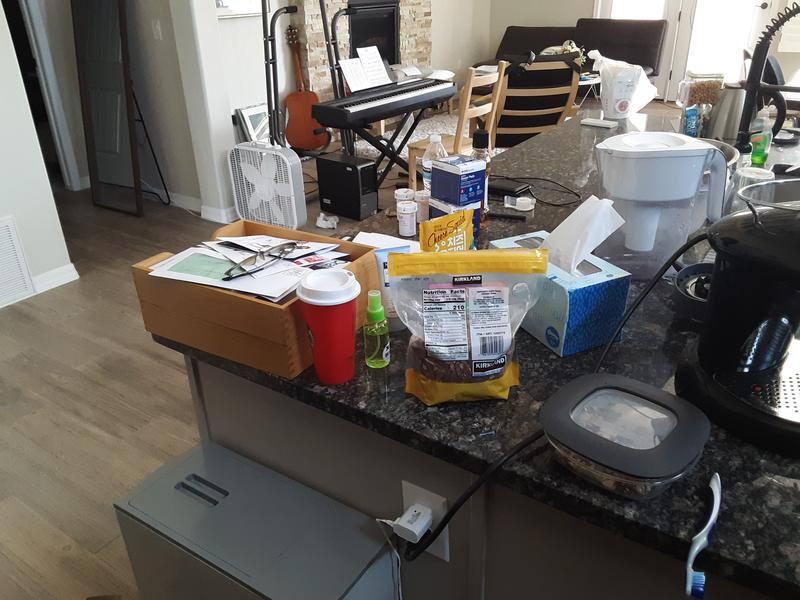glasses: (220, 239, 300, 282)
